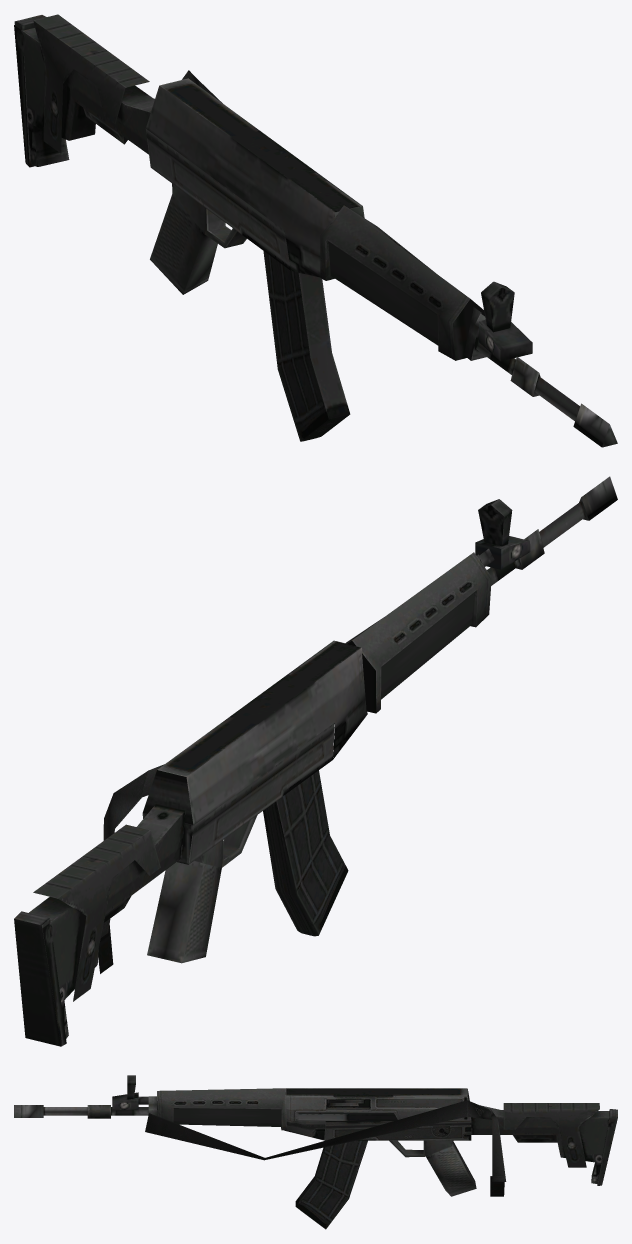
Rendered from Assault_Rifle_QBZ03_qt_lod2_Body_LOD_(000824).glb.
3 renders of one model, top to bottom at view 1: azimuth 30°, elevation 25°; view 2: azimuth 150°, elevation 25°; view 3: azimuth 270°, elevation 25°, orthographic. The views are drawn at different scales.
Visible parts, largest first — view 1: QBZ03_qt_lod2; view 2: QBZ03_qt_lod2; view 3: QBZ03_qt_lod2.
Part boxes in pixels (left/top/right/bottom): QBZ03_qt_lod2: left=14, top=14, right=617, bottom=447; QBZ03_qt_lod2: left=14, top=476, right=617, bottom=1046; QBZ03_qt_lod2: left=14, top=1075, right=617, bottom=1229.
Size of the model in its own units: 0.0992 by 0.3043 by 1.09.
Materials: 1 (1 with a texture image).
